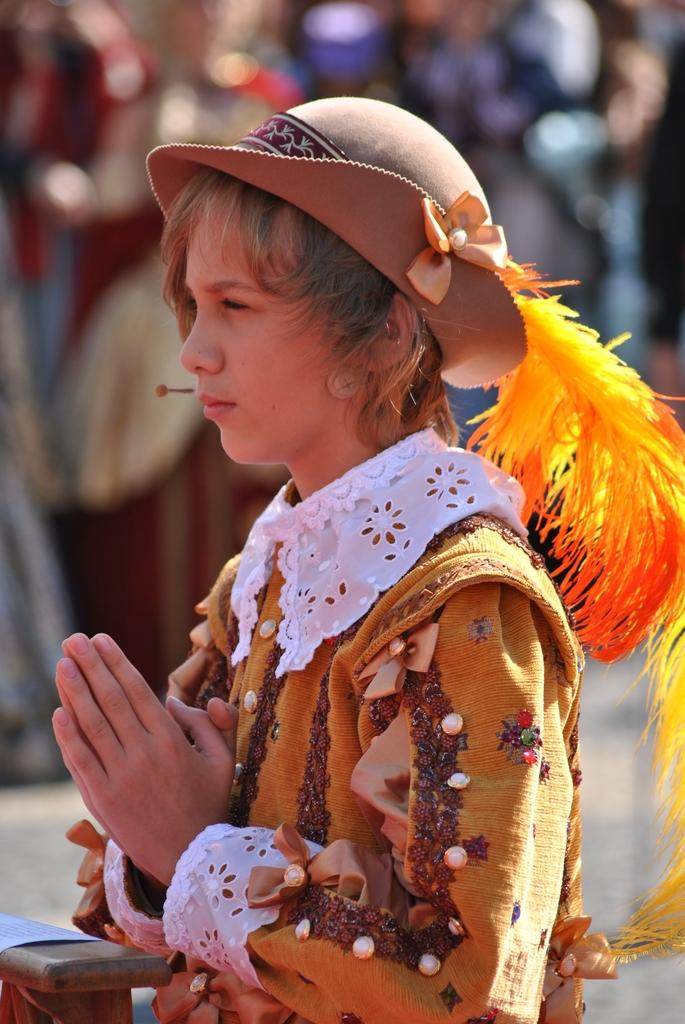Hat: (146, 98, 684, 976)
